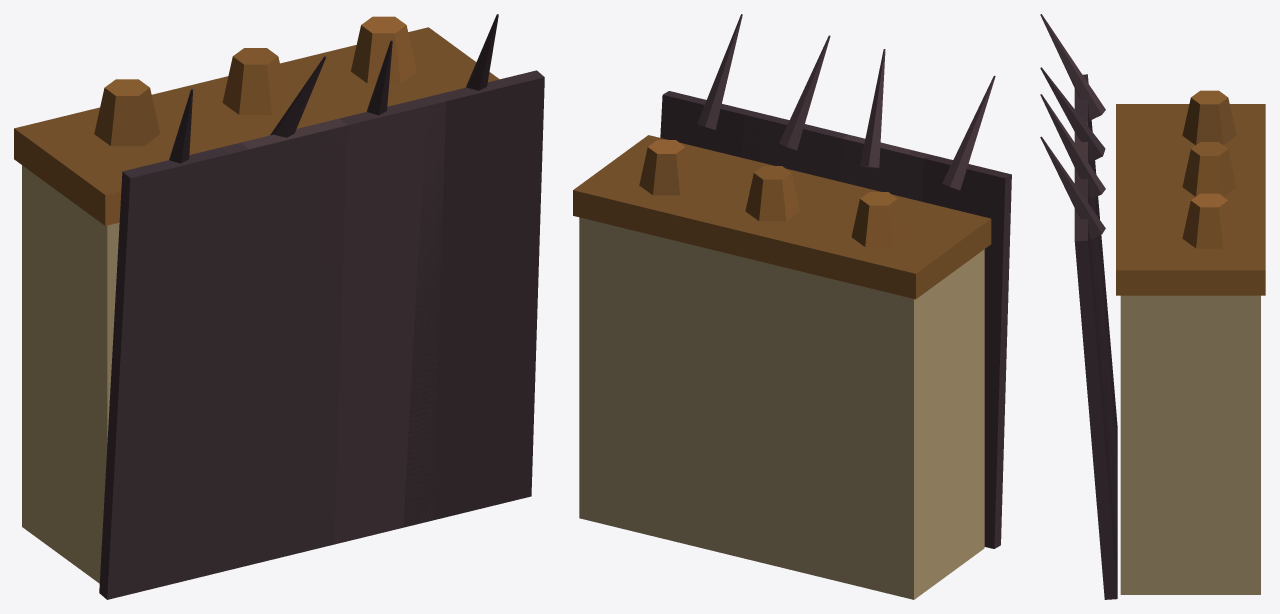
The model's file is hive_wall.glb.
The picture shows the model from 3 angles, left to right: view 1: azimuth 30°, elevation 25°; view 2: azimuth 150°, elevation 25°; view 3: azimuth 270°, elevation 25°; orthographic projection. The views are drawn at different scales.
Visible parts, largest first — view 1: hive_wall; view 2: hive_wall; view 3: hive_wall.
Boxes of the visible parts, x1,y1,x2,y2 form: hive_wall: (14,14,544,599); hive_wall: (573,14,1011,599); hive_wall: (1040,14,1265,599).
Bounding box in the file's own units: 4.3 × 5.12 × 2.41.
1 material, 1 textured.
